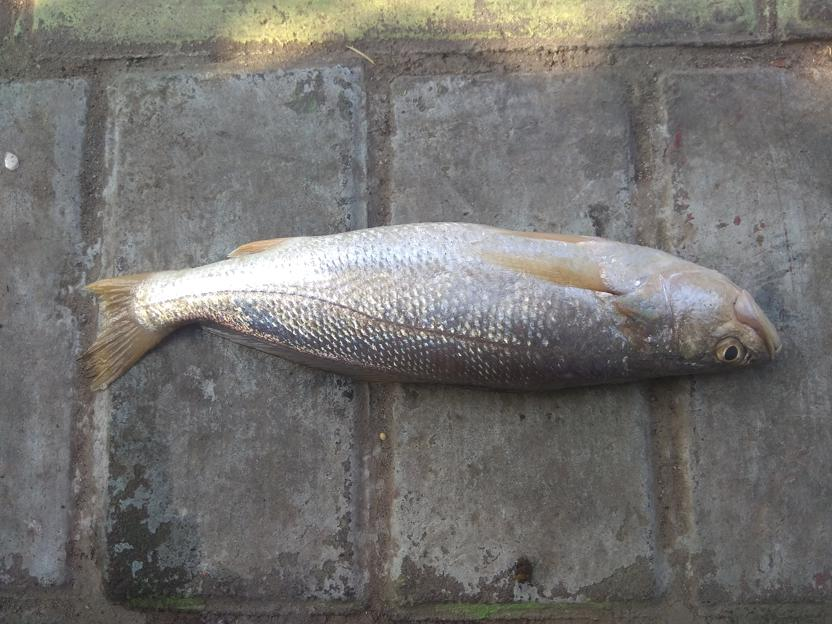Fish head: (620, 241, 780, 380)
Fish tail: (69, 270, 168, 392)
